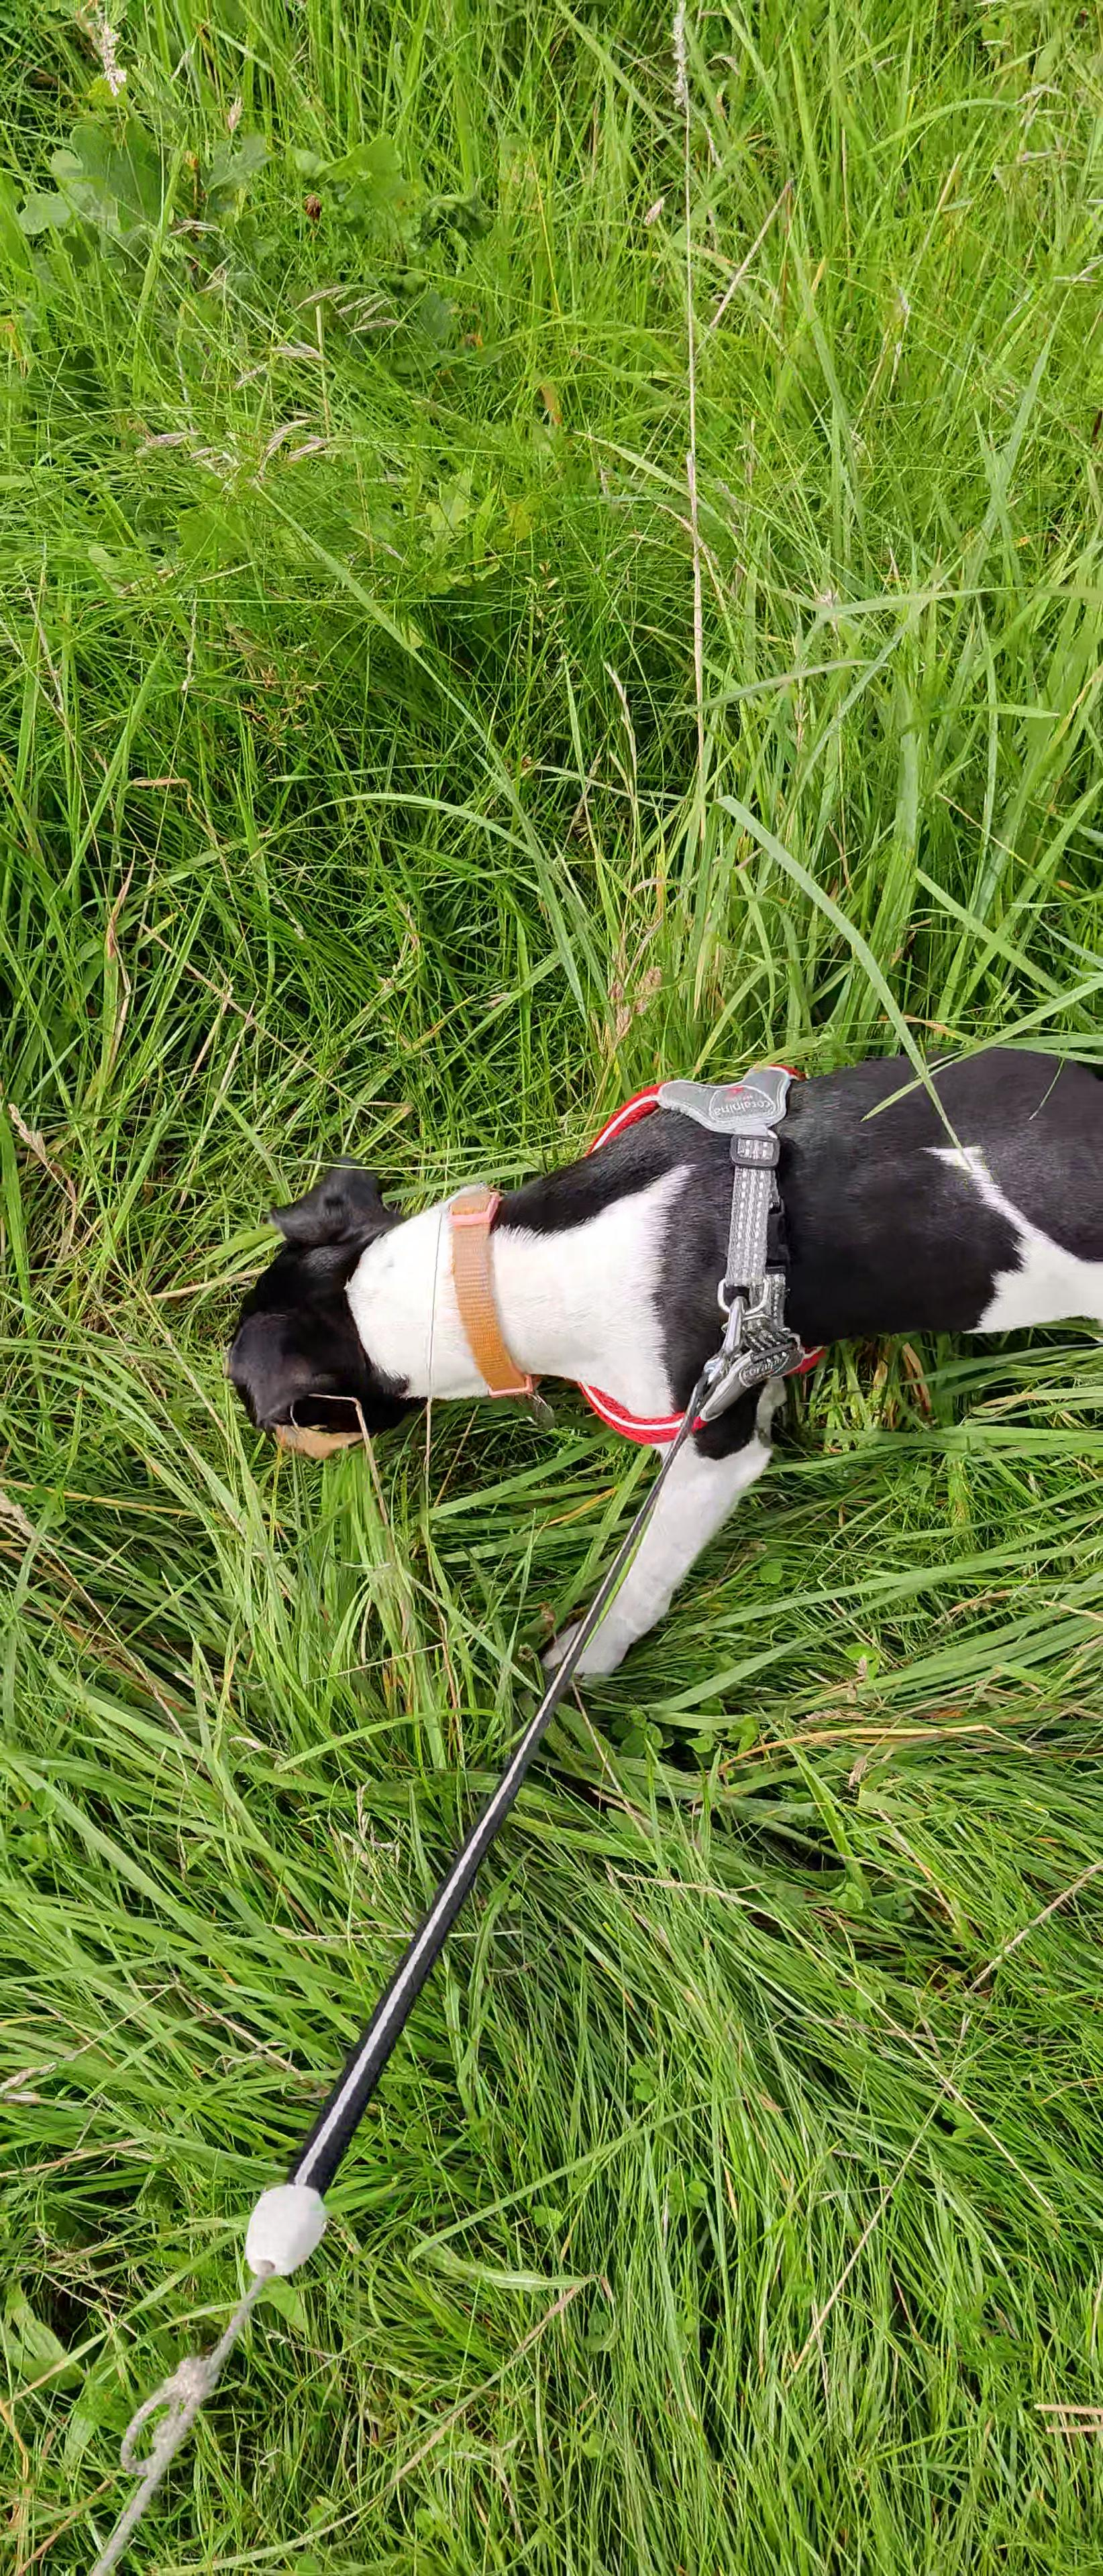Dog: (207, 1035, 1103, 1681)
